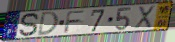5: (113, 7, 134, 32)
7: (90, 9, 106, 33)
D: (36, 10, 60, 37)
F: (63, 10, 88, 35)
S: (18, 12, 41, 38)
X: (133, 5, 157, 30)
